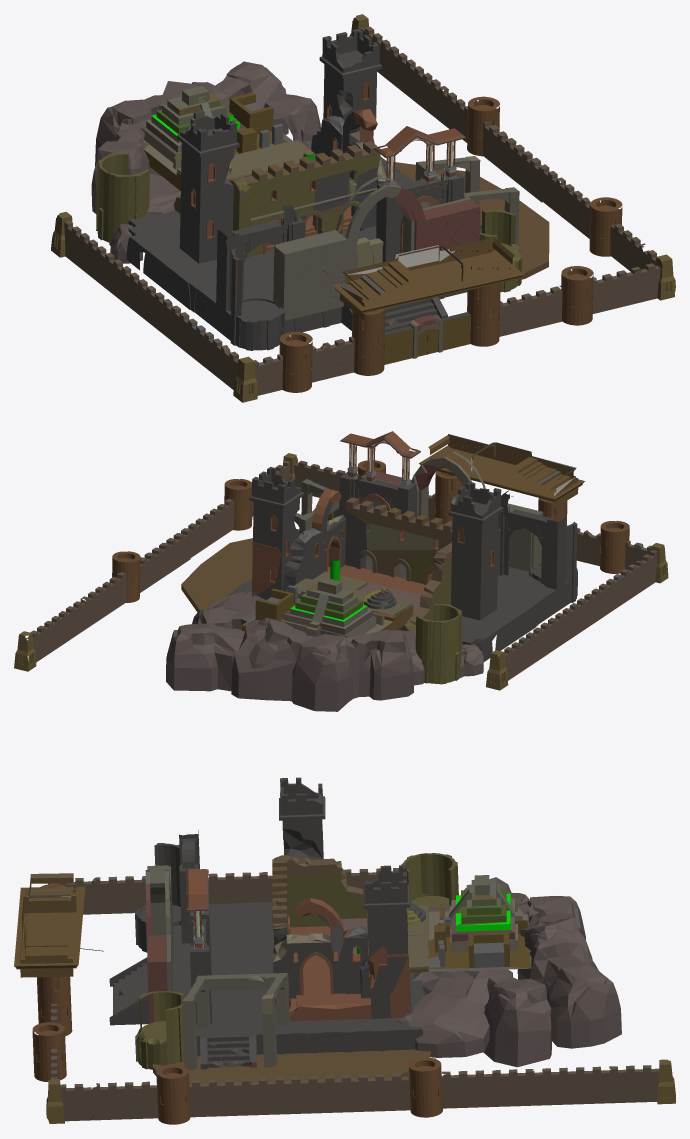
The model's file is asset.glb.
3 renders of one model, top to bottom at view 1: azimuth 30°, elevation 25°; view 2: azimuth 150°, elevation 25°; view 3: azimuth 270°, elevation 25°, orthographic. The views are drawn at different scales.
Parts seen in each view (by area): view 1: entity_1, Componen26; view 2: entity_1, Componen26; view 3: entity_1, Componen26.
Boxes of the visible parts, x1,y1,x2,y2 form: entity_1: [51, 14, 675, 402]; Componen26: [381, 126, 461, 153]; entity_1: [14, 434, 668, 711]; Componen26: [344, 431, 414, 454]; entity_1: [14, 777, 675, 1124]; Componen26: [188, 869, 205, 907].
Size of the model in its own units: 2753 by 836 by 2786.
Materials: 68 (52 with a texture image).
